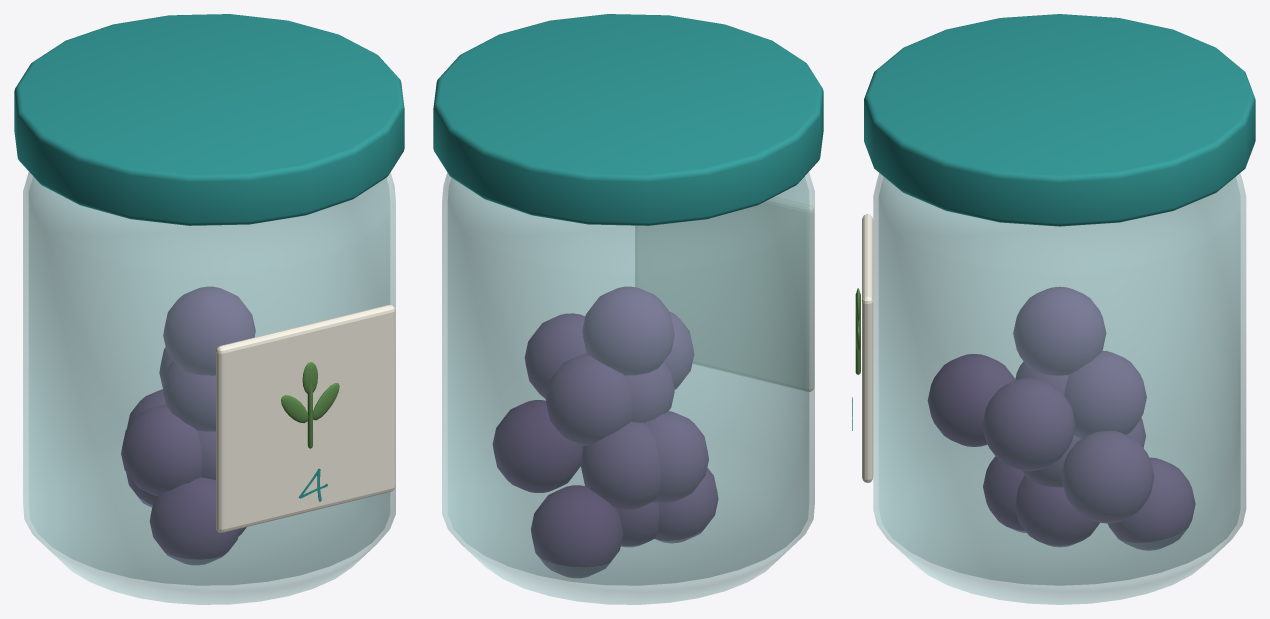
Rendered from harvest_jar_q4.glb.
3 views of the same model, side by side, from view 1: azimuth 30°, elevation 25°; view 2: azimuth 150°, elevation 25°; view 3: azimuth 270°, elevation 25° (orthographic).
Parts seen in each view (by area): view 1: Glass_jar, Lid, Label, Contents_on_bottom.012, Contents_on_bottom.004, Contents_on_bottom.001, Contents_on_bottom.009, Contents_on_bottom.006, Contents_on_bottom.007; view 2: Glass_jar, Lid, Label, Contents_on_bottom.002, Contents_on_bottom.012, Contents_on_bottom.010, Contents_on_bottom.005, Contents_on_bottom.007, Contents_on_bottom.004, Contents_on_bottom.008, Contents_on_bottom.001, Contents_on_bottom.009 (+2 smaller); view 3: Glass_jar, Lid, Contents_on_bottom.008, Contents_on_bottom.005, Contents_on_bottom.012, Contents_on_bottom.010, Contents_on_bottom.011, Contents_on_bottom.002, Contents_on_bottom, Label, Contents_on_bottom.001, Contents_on_bottom.006 (+1 smaller).
Part boxes in pixels (left/top/right/bottom): Glass_jar: left=23, top=172, right=395, bottom=604; Lid: left=14, top=14, right=404, bottom=225; Label: left=216, top=305, right=395, bottom=532; Contents_on_bottom.012: left=163, top=286, right=255, bottom=375; Contents_on_bottom.004: left=121, top=405, right=202, bottom=495; Contents_on_bottom.001: left=149, top=477, right=239, bottom=564; Contents_on_bottom.009: left=163, top=361, right=215, bottom=431; Contents_on_bottom.006: left=197, top=430, right=215, bottom=480; Contents_on_bottom.007: left=127, top=389, right=165, bottom=428; Glass_jar: left=442, top=172, right=814, bottom=604; Lid: left=433, top=14, right=823, bottom=225; Label: left=635, top=197, right=814, bottom=391; Contents_on_bottom.002: left=531, top=485, right=623, bottom=577; Contents_on_bottom.012: left=582, top=286, right=674, bottom=375; Contents_on_bottom.010: left=545, top=354, right=633, bottom=445; Contents_on_bottom.005: left=492, top=400, right=583, bottom=492; Contents_on_bottom.007: left=580, top=421, right=660, bottom=510; Contents_on_bottom.004: left=645, top=411, right=708, bottom=503; Contents_on_bottom.008: left=524, top=313, right=586, bottom=398; Contents_on_bottom.001: left=655, top=468, right=718, bottom=542; Contents_on_bottom.009: left=625, top=361, right=674, bottom=422; Glass_jar: left=873, top=173, right=1246, bottom=604; Lid: left=864, top=14, right=1255, bottom=226; Contents_on_bottom.008: left=982, top=378, right=1075, bottom=471; Contents_on_bottom.005: left=1061, top=431, right=1154, bottom=523; Contents_on_bottom.012: left=1013, top=286, right=1106, bottom=375; Contents_on_bottom.010: left=1064, top=351, right=1146, bottom=438; Contents_on_bottom.011: left=927, top=354, right=1015, bottom=446; Contents_on_bottom.002: left=1108, top=457, right=1195, bottom=550; Contents_on_bottom: left=1015, top=475, right=1099, bottom=546; Label: left=862, top=214, right=873, bottom=482; Contents_on_bottom.001: left=983, top=456, right=1026, bottom=532; Contents_on_bottom.006: left=1022, top=435, right=1080, bottom=487.
Bounding box in the file's own units: 0.21 × 0.27 × 0.2162.
